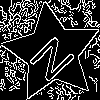N: (27, 27, 84, 85)
